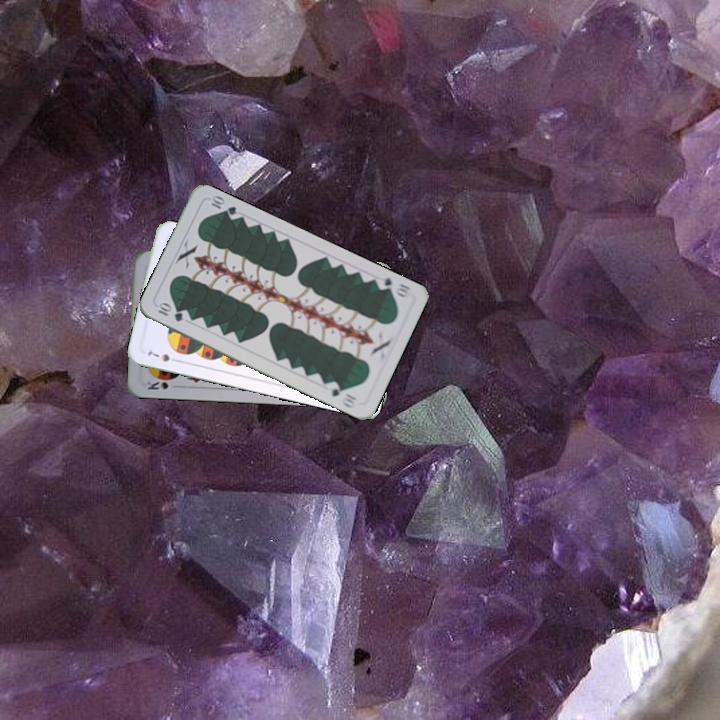G10: (372, 273, 413, 300), (153, 299, 186, 324)
S7: (144, 347, 182, 365)
SK: (143, 377, 171, 392)
